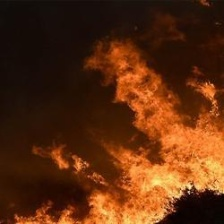fire: (15, 46, 224, 223)
